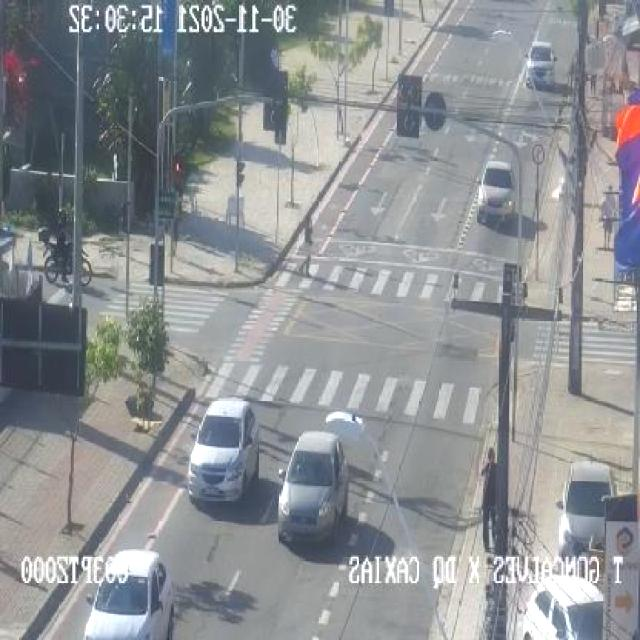Car: (84, 549, 176, 640), (276, 431, 350, 543), (187, 399, 258, 501), (520, 575, 604, 640), (558, 462, 614, 556), (477, 161, 516, 222), (525, 42, 558, 88)
